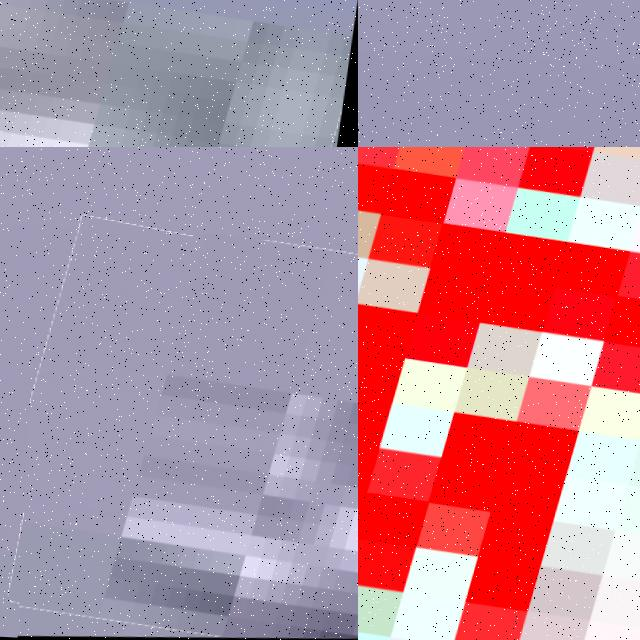drone: (17, 228, 358, 640), (358, 147, 640, 640), (0, 0, 358, 147)
